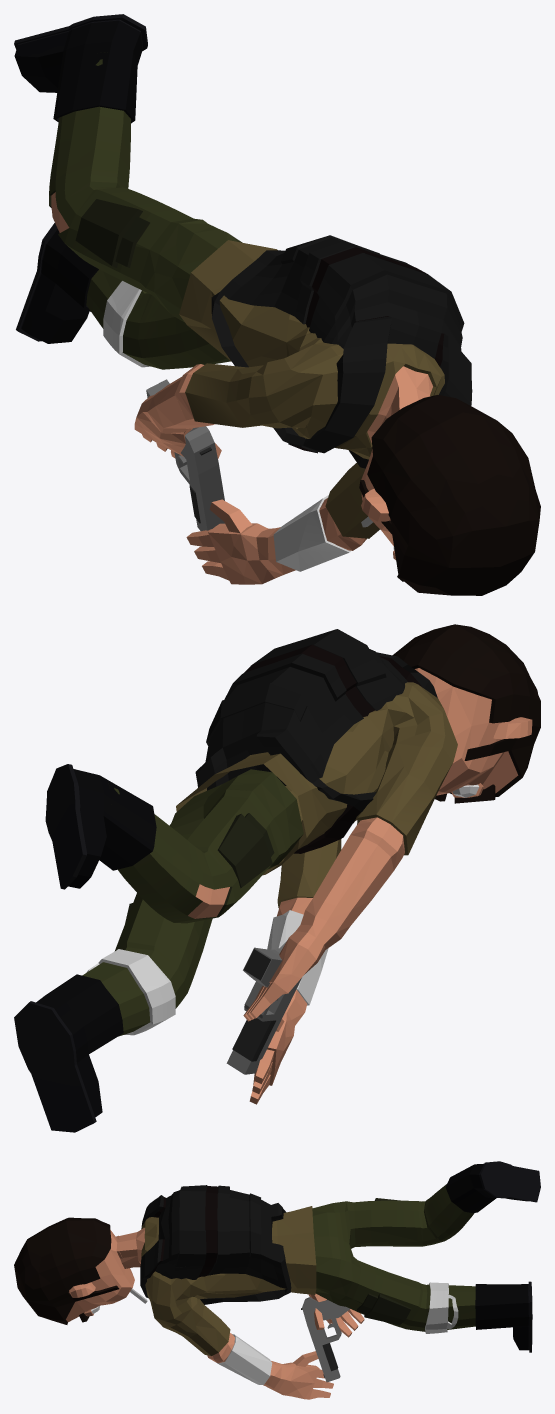
The model's file is frame_0035.obj.
The picture shows the model from 3 angles, top to bottom: view 1: azimuth 30°, elevation 25°; view 2: azimuth 150°, elevation 25°; view 3: azimuth 270°, elevation 25°; orthographic projection. The views are drawn at different scales.
Visible parts, largest first — view 1: Body, Gun; view 2: Body, Gun; view 3: Body, Gun.
Boxes of the visible parts, left/top/right/bottom form: Body: left=14, top=14, right=540, bottom=595; Gun: left=146, top=379, right=224, bottom=530; Body: left=14, top=624, right=540, bottom=1132; Gun: left=226, top=941, right=301, bottom=1074; Body: left=14, top=1161, right=540, bottom=1399; Gun: left=301, top=1297, right=350, bottom=1382.
Bounding box in the file's own units: 1.14 × 2.2 × 4.19.
